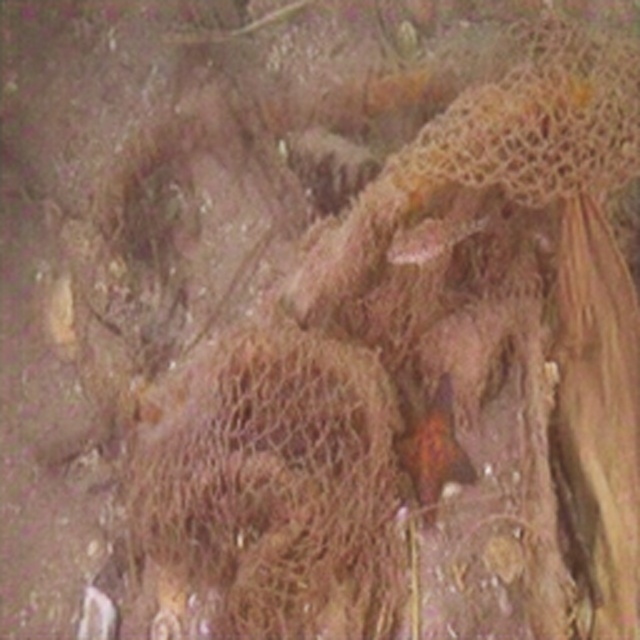mine: (126, 14, 639, 639)
